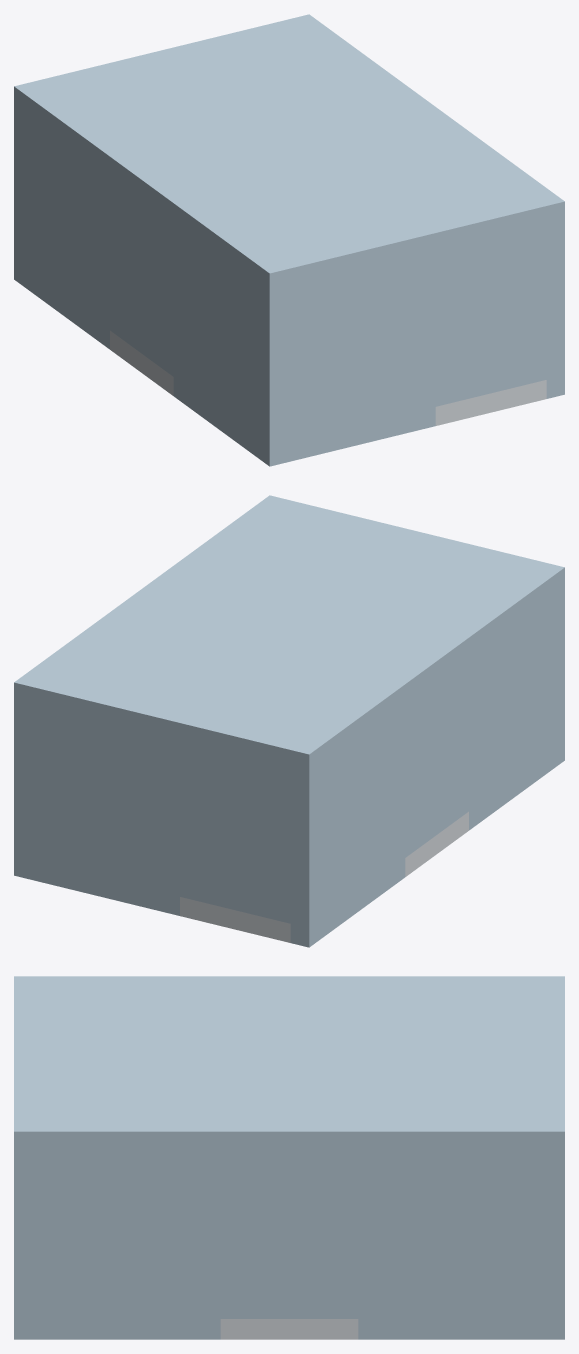
File: ice-sheet.glb
3 views of the same model, one above another, from view 1: azimuth 30°, elevation 25°; view 2: azimuth 150°, elevation 25°; view 3: azimuth 270°, elevation 25° (orthographic). The views are drawn at different scales.
Visible parts, largest first — view 1: ice-rock_21, ice-rock_6, ice-rock_1, plug_ice_south, ice-rock_10, plug_ice_west, ice-rock_8, ice-rock_9, ice-rock_14, ice-rock_7, ice-rock_12, snow_7 (+1 smaller); view 2: ice-rock_21, ice-rock_2, ice-rock_1, ice-rock_6, plug_ice_north, plug_ice_west, ice-rock_11, ice-rock_12, snow_1, snow_4; view 3: ice-rock_21, ice-rock_7, ice-rock_5, plug_ice_east, ice-rock_3, ice-rock_4, ice-rock_13, ice-rock_2, snow_5.
Boxes of the visible parts, box(x1,y1,x2,y2) form: ice-rock_21: box(14, 14, 564, 292); ice-rock_6: box(173, 223, 288, 466); ice-rock_1: box(14, 106, 109, 349); plug_ice_south: box(435, 264, 546, 406); ice-rock_10: box(362, 252, 435, 443); plug_ice_west: box(110, 215, 173, 376); ice-rock_8: box(288, 279, 324, 461); ice-rock_9: box(325, 270, 361, 452); ice-rock_14: box(435, 225, 546, 290); ice-rock_7: box(546, 221, 564, 398); ice-rock_12: box(110, 176, 173, 260); snow_7: box(435, 380, 546, 425); ice-rock_21: box(14, 495, 564, 773); ice-rock_2: box(14, 702, 179, 915); ice-rock_1: box(290, 704, 405, 947); ice-rock_6: box(469, 587, 564, 830); plug_ice_north: box(180, 781, 290, 923); plug_ice_west: box(405, 696, 468, 857); ice-rock_11: box(180, 742, 290, 807); ice-rock_12: box(405, 657, 468, 741); snow_1: box(180, 897, 290, 942); snow_4: box(405, 811, 468, 876); ice-rock_21: box(14, 976, 564, 1152); ice-rock_7: box(14, 1152, 220, 1339); ice-rock_5: box(358, 1152, 450, 1339); plug_ice_east: box(220, 1194, 358, 1318); ice-rock_3: box(496, 1152, 541, 1339); ice-rock_4: box(450, 1152, 495, 1339); ice-rock_13: box(220, 1152, 358, 1193); ice-rock_2: box(542, 1152, 564, 1339); snow_5: box(220, 1319, 358, 1339).
Size of the model in its own units: 8 by 5 by 12.
